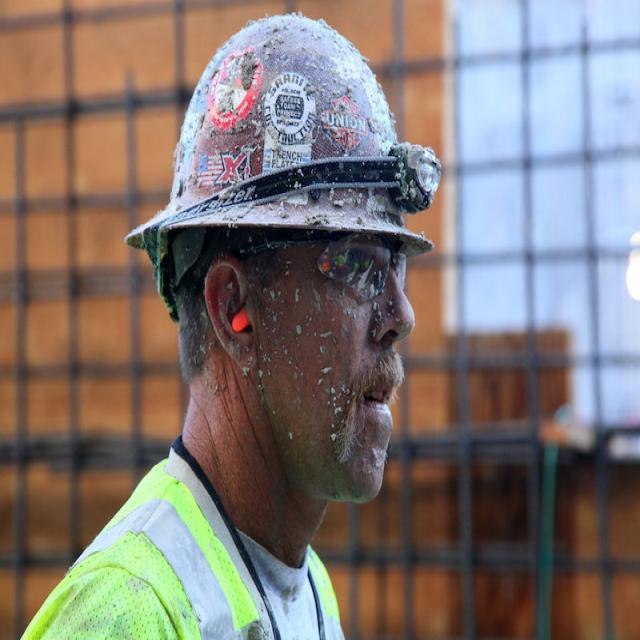goggles: (232, 221, 431, 313)
helmet: (117, 8, 449, 257)
vest: (15, 437, 363, 640)
